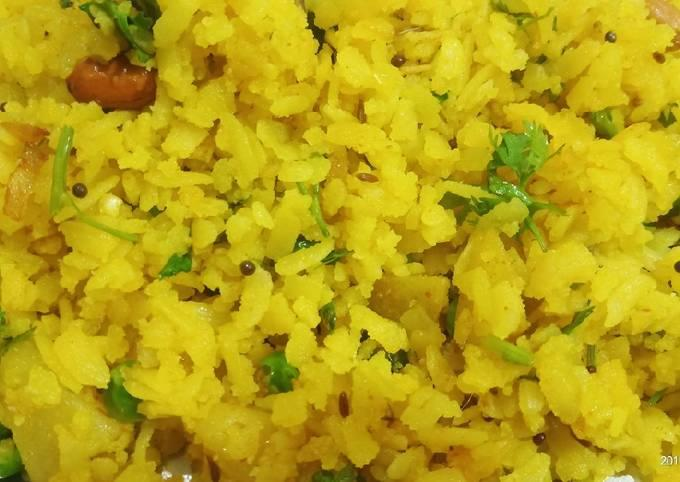poha: (4, 2, 680, 482)
